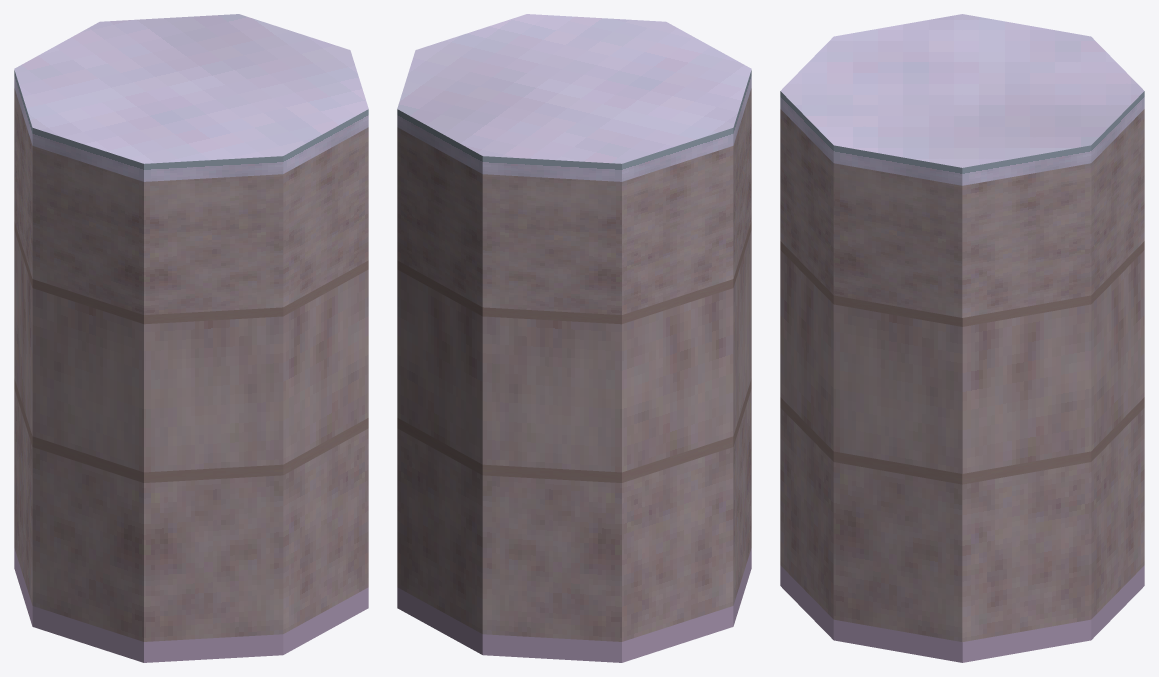
Rendered from barrel.gltf.
3 views of the same model, side by side, from view 1: azimuth 30°, elevation 25°; view 2: azimuth 150°, elevation 25°; view 3: azimuth 270°, elevation 25° (orthographic).
Parts seen in each view (by area): view 1: barrel; view 2: barrel; view 3: barrel.
Boxes of the visible parts, <box> form: barrel: <box>14,14,368,662</box>; barrel: <box>397,14,751,662</box>; barrel: <box>780,14,1144,662</box>.
Bounding box in the file's own units: 1 × 1.5 × 1.
1 material, 1 textured.
